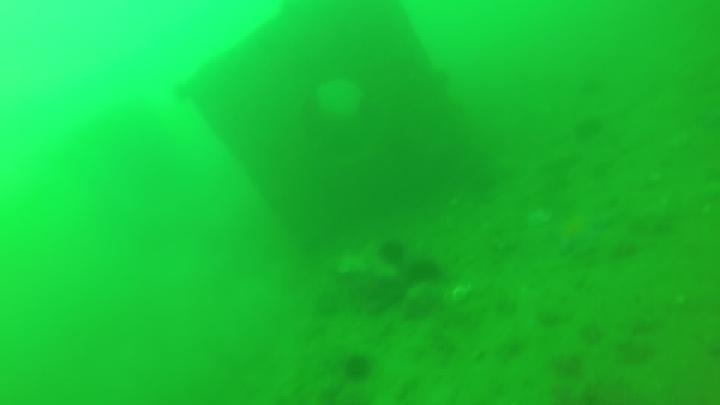echinus: (406, 256, 444, 287), (341, 351, 375, 383), (572, 114, 606, 143), (376, 237, 408, 266)
scallop: (311, 76, 367, 125)
starfish: (550, 209, 612, 260)
